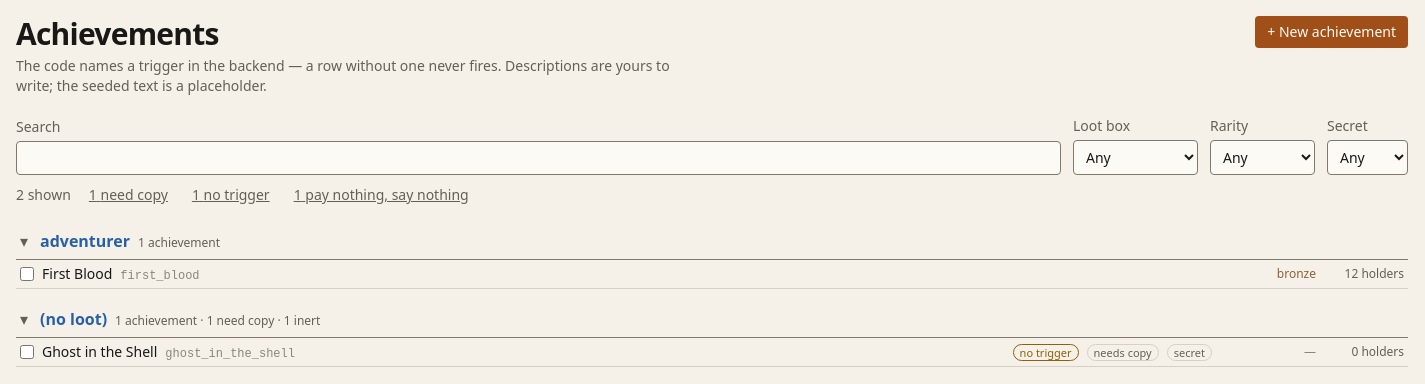
AdminAchievementsPage › filters down to the rows still needing copy
The image size is (1425, 384).
Expected: the button "First Blood" is shown, top-left (42, 264), bottom-right (1212, 284)
Note: The group header summary says "1 need copy" too, so anchor on the count.
Click the button "1 need copy" at (128, 195), box top-left (83, 183), bottom-right (174, 207)
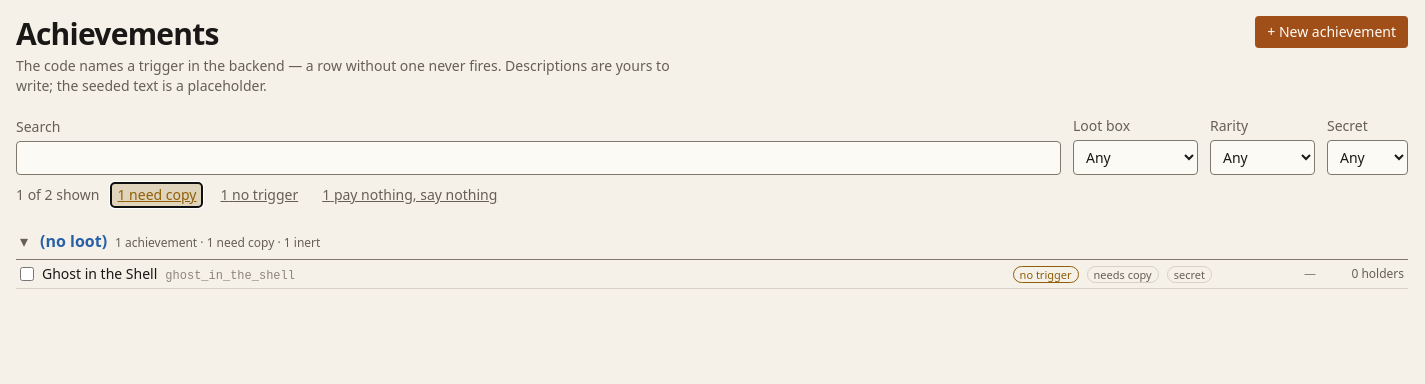
Expected: the button "Ghost in the Shell" is shown, top-left (42, 264), bottom-right (1005, 284)
Now the button "First Blood" is gone
